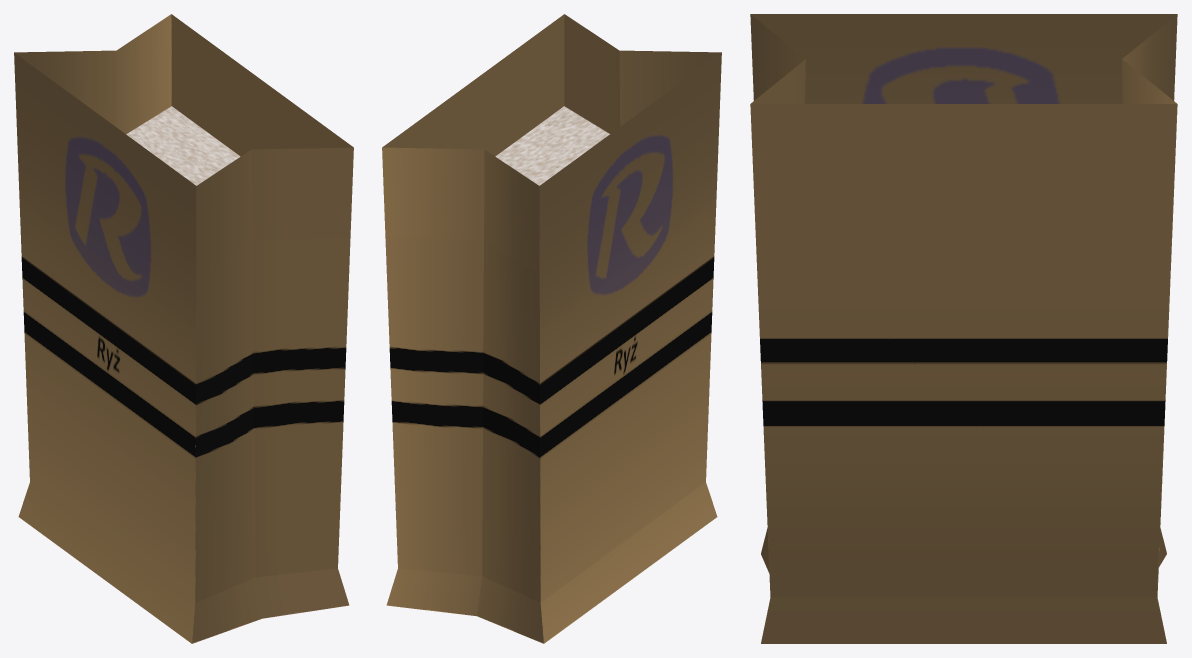
Rendered from Ryz.gltf.
3 views of the same model, side by side, from view 1: azimuth 30°, elevation 25°; view 2: azimuth 150°, elevation 25°; view 3: azimuth 270°, elevation 25° (orthographic). The views are drawn at different scales.
Parts seen in each view (by area): view 1: Cube.009; view 2: Cube.009; view 3: Cube.009.
Boxes of the visible parts, x1=… form: Cube.009: x1=14, y1=14, x2=353, y2=643; Cube.009: x1=382, y1=14, x2=721, y2=643; Cube.009: x1=750, y1=14, x2=1177, y2=643.
Bounding box in the file's own units: 0.6553 × 1.83 × 1.32.
2 materials, 2 textured.
